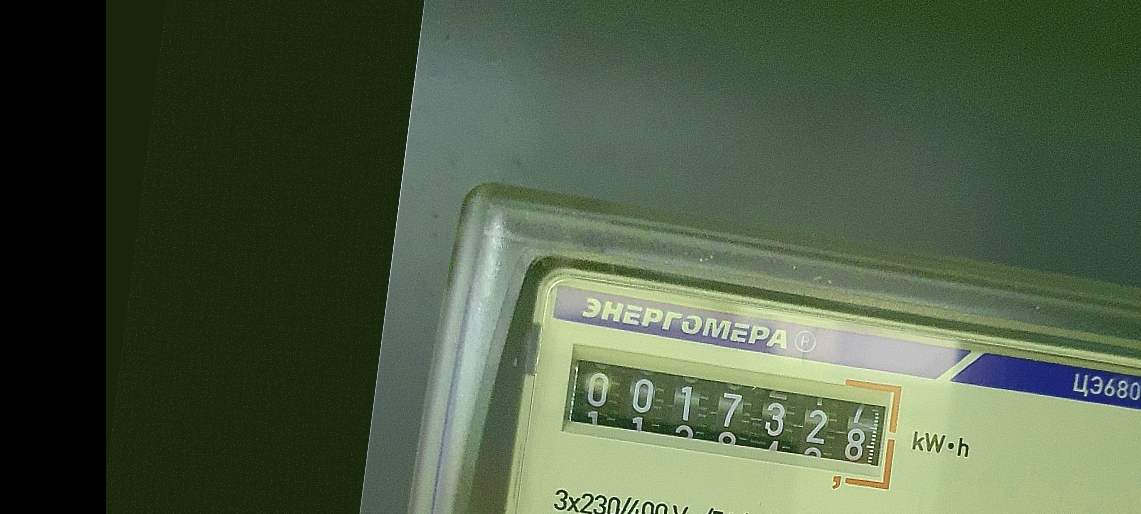0: (582, 368, 613, 410), (630, 375, 657, 416)
1: (674, 382, 697, 423)
2: (803, 406, 830, 446)
3: (763, 400, 789, 438)
7: (718, 389, 744, 430)
8: (843, 424, 866, 462)
screen: (548, 339, 913, 499)
